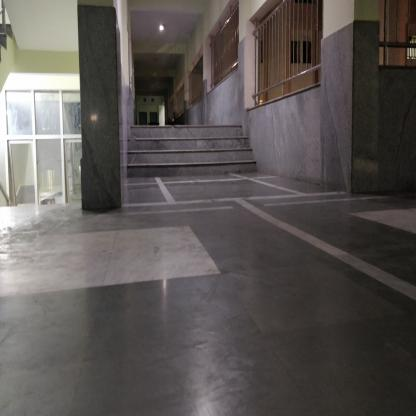stairs: (133, 124, 246, 177)
